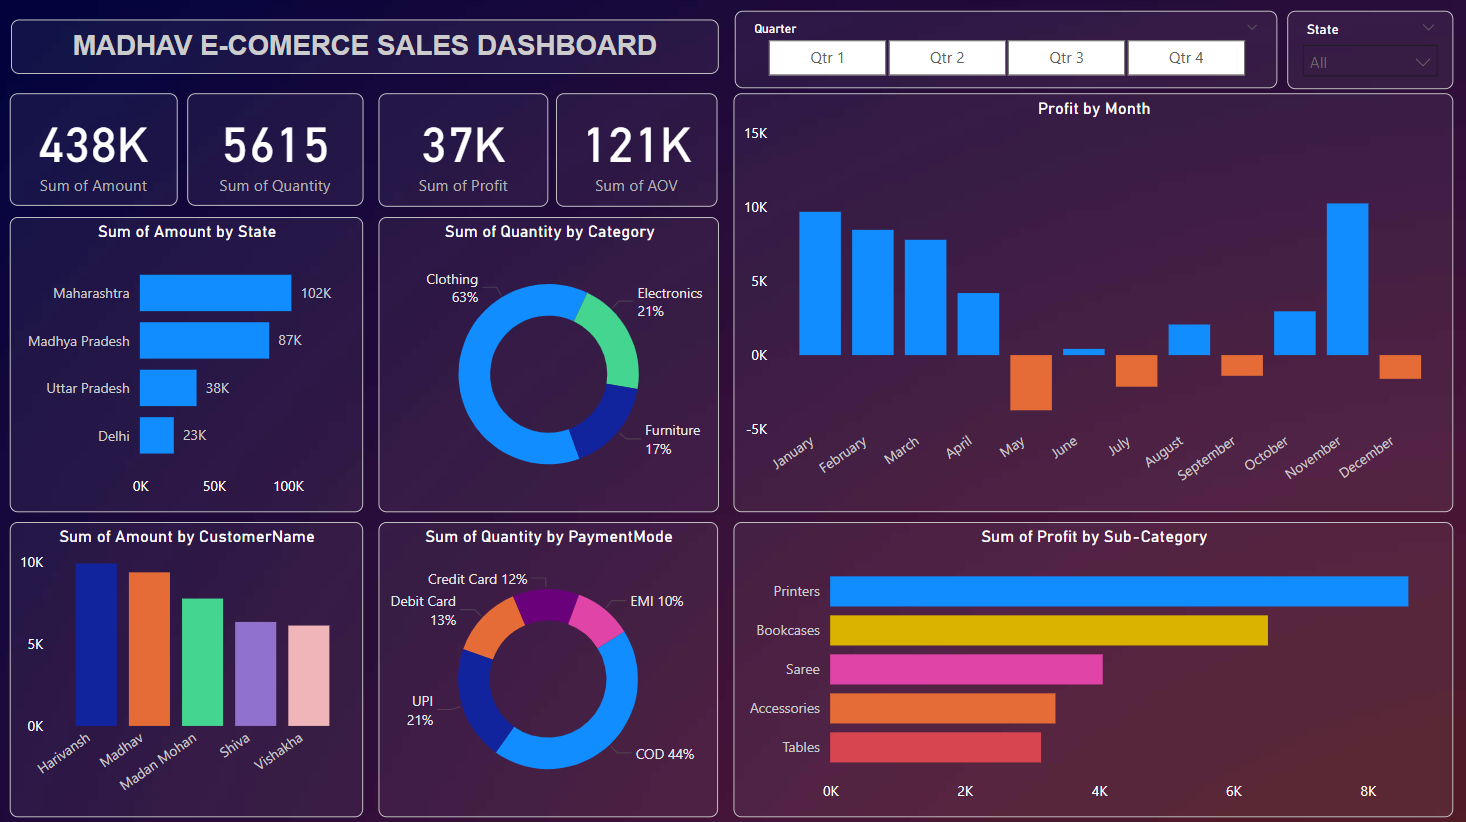

What the dashboard file says about the page in this screenshot:
{"tool":"powerbi","page":{"name":"Page 1","canvas":[1280,720],"ordinal":0},"visuals":[{"type":"textbox","box":[12.5,20,613.8,47.5],"z":0},{"type":"columnChart","title":"Profit by Month","fields":{"Category":["Orders.Order Date.Variation.Date Hierarchy.Month"],"Y":["Details.Profit"]},"box":[639.7,83.4,624.2,363.3],"z":1000},{"type":"barChart","fields":{"Category":["Details.Sub-Category"],"Y":["Details.Profit"]},"box":[639.7,455.1,624.2,256.1],"z":2000},{"type":"donutChart","fields":{"Category":["Details.Category"],"Y":["Details.Quantity"]},"box":[331.2,190.6,295.4,256.1],"z":3000},{"type":"donutChart","fields":{"Y":["Details.Quantity"],"Category":["Details.PaymentMode"]},"box":[331.2,455.1,294.2,256.1],"z":4000},{"type":"card","fields":{"Values":["Details.Amount"]},"box":[11.9,83.4,145.3,97.7],"z":5000},{"type":"card","fields":{"Values":["Details.Quantity"]},"box":[165.6,83.4,152.5,97.7],"z":6000},{"type":"card","fields":{"Values":["Details.Profit"]},"box":[331.3,83.3,147.3,98],"z":7000},{"type":"card","fields":{"Values":["Details.AOV"]},"box":[485.3,83.3,140,98],"z":8000},{"type":"barChart","fields":{"Category":["Orders.State"],"Y":["Details.Amount"]},"box":[11.9,190.6,306.2,256.1],"z":9000},{"type":"columnChart","fields":{"Category":["Orders.CustomerName"],"Y":["Details.Amount"]},"box":[12,455,306,256],"z":10000},{"type":"slicer","fields":{"Values":["Orders.Order Date.Variation.Date Hierarchy.Quarter"]},"box":[640,11.8,470,67.3],"z":11000},{"type":"slicer","fields":{"Values":["Orders.State"]},"box":[1120,11.8,144.1,67.6],"z":12000}]}

Visuals, with their boxes in screenshot pixels (x1, y1, x2, y2), scaled from the page's 1280x720 canvas onto the 1466x822 screenshot:
textbox: [14,23,717,77]
"Profit by Month" columnChart: [733,95,1448,510]
barChart - Details.Sub-Category x Details.Profit: [733,520,1448,812]
donutChart - Details.Category x Details.Quantity: [379,218,718,510]
donutChart - Details.Quantity x Details.PaymentMode: [379,520,716,812]
card - Details.Amount: [14,95,180,207]
card - Details.Quantity: [190,95,364,207]
card - Details.Profit: [379,95,548,207]
card - Details.AOV: [556,95,716,207]
barChart - Orders.State x Details.Amount: [14,218,364,510]
columnChart - Orders.CustomerName x Details.Amount: [14,519,364,812]
slicer - Orders.Order Date.Variation.Date Hierarchy.Quarter: [733,13,1271,90]
slicer - Orders.State: [1283,13,1448,91]
